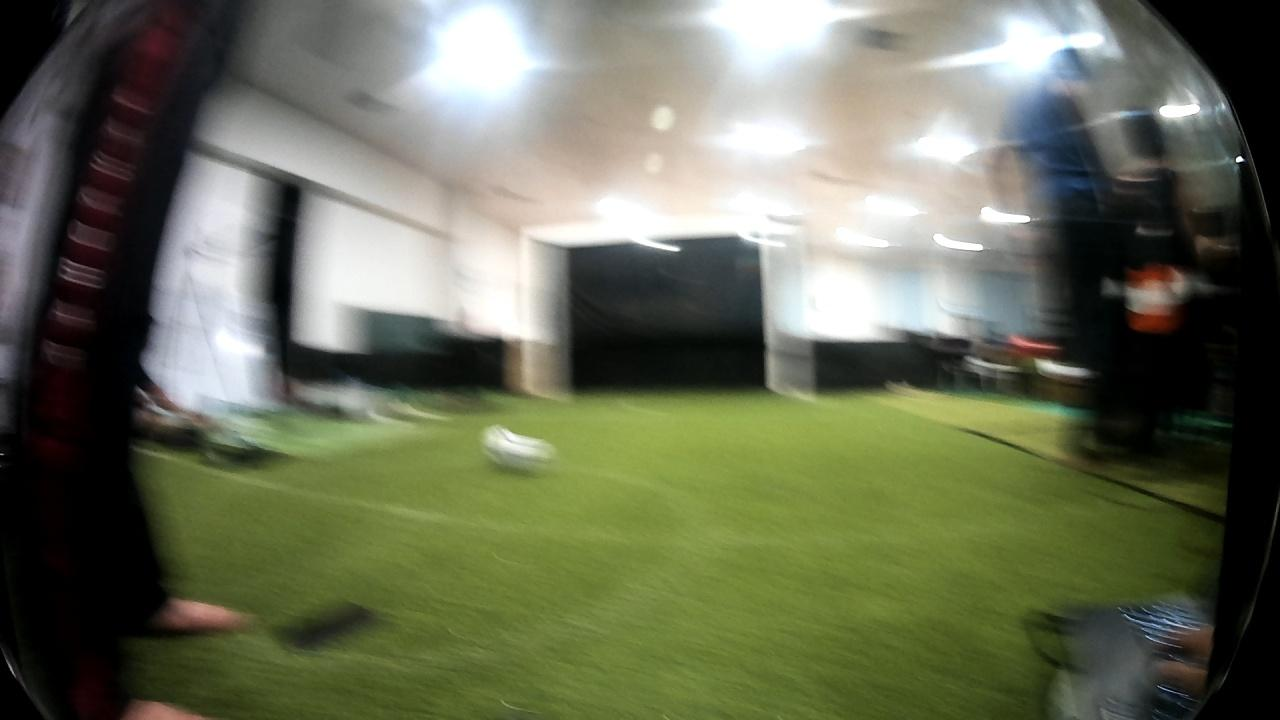ball: (484, 419, 557, 477)
